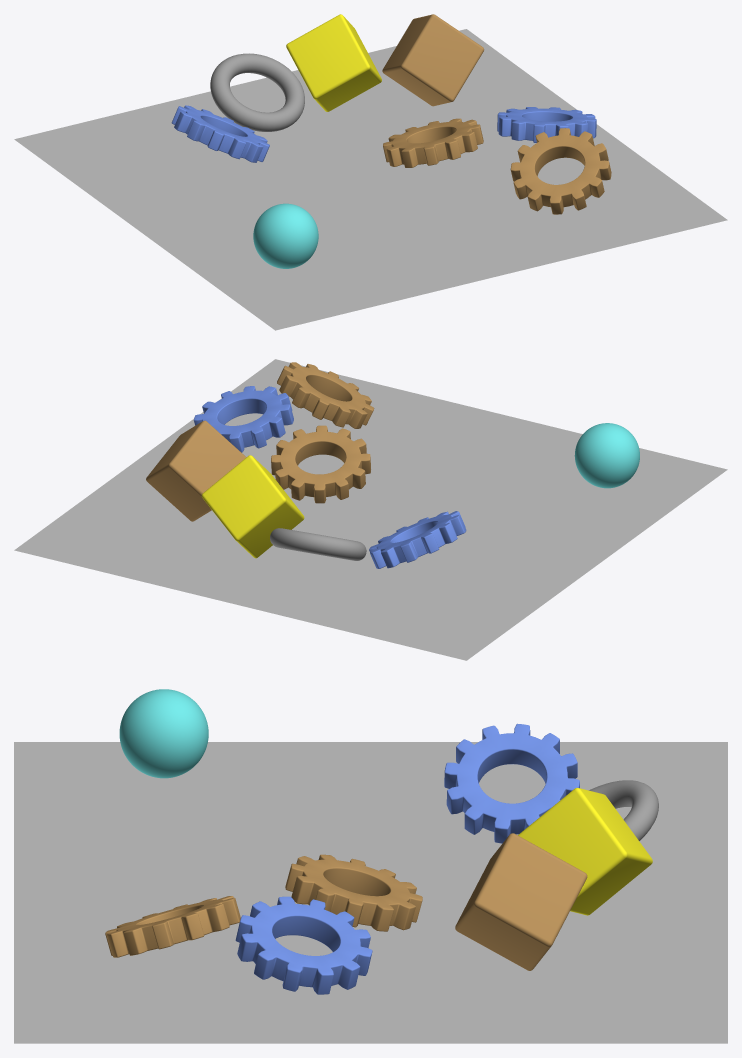
The picture shows the model from 3 angles, top to bottom: view 1: azimuth 30°, elevation 25°; view 2: azimuth 150°, elevation 25°; view 3: azimuth 270°, elevation 25°; orthographic projection. The views are drawn at different scales.
Visible parts, largest first — view 1: Cube, FileBasedObject.003, FileBasedObject.005, FileBasedObject.002, FileBasedObject.001, FileBasedObject, FileBasedObject.004, FileBasedObject.007, FileBasedObject.006; view 2: Cube, FileBasedObject.005, FileBasedObject.003, FileBasedObject, FileBasedObject.006, FileBasedObject.002, FileBasedObject.004, FileBasedObject.007, FileBasedObject.001; view 3: Cube, FileBasedObject.003, FileBasedObject.006, FileBasedObject.007, FileBasedObject.005, FileBasedObject, FileBasedObject.004, FileBasedObject.002, FileBasedObject.001.
Boxes of the visible parts, left/top/right/bottom form: Cube: left=14, top=29, right=727, bottom=330; FileBasedObject.003: left=382, top=14, right=484, bottom=106; FileBasedObject.005: left=286, top=14, right=381, bottom=111; FileBasedObject.002: left=510, top=128, right=611, bottom=214; FileBasedObject.001: left=210, top=53, right=304, bottom=131; FileBasedObject: left=383, top=118, right=483, bottom=167; FileBasedObject.004: left=253, top=203, right=318, bottom=268; FileBasedObject.007: left=171, top=105, right=269, bottom=162; FileBasedObject.006: left=497, top=107, right=596, bottom=142; Cube: left=14, top=359, right=727, bottom=660; FileBasedObject.005: left=201, top=455, right=304, bottom=558; FileBasedObject.003: left=146, top=420, right=246, bottom=521; FileBasedObject: left=271, top=425, right=370, bottom=503; FileBasedObject.006: left=193, top=386, right=293, bottom=452; FileBasedObject.002: left=277, top=362, right=374, bottom=428; FileBasedObject.004: left=574, top=423, right=639, bottom=488; FileBasedObject.007: left=369, top=511, right=466, bottom=568; FileBasedObject.001: left=270, top=528, right=366, bottom=560; Cube: left=14, top=742, right=727, bottom=1043; FileBasedObject.003: left=455, top=833, right=587, bottom=970; FileBasedObject.006: left=235, top=896, right=372, bottom=994; FileBasedObject.007: left=444, top=723, right=579, bottom=843; FileBasedObject.005: left=518, top=787, right=652, bottom=915; FileBasedObject: left=285, top=854, right=422, bottom=931; FileBasedObject.004: left=119, top=689, right=208, bottom=778; FileBasedObject.002: left=105, top=896, right=240, bottom=957; FileBasedObject.001: left=589, top=780, right=658, bottom=840.
Size of the model in its own units: 8 by 1.68 by 8.
